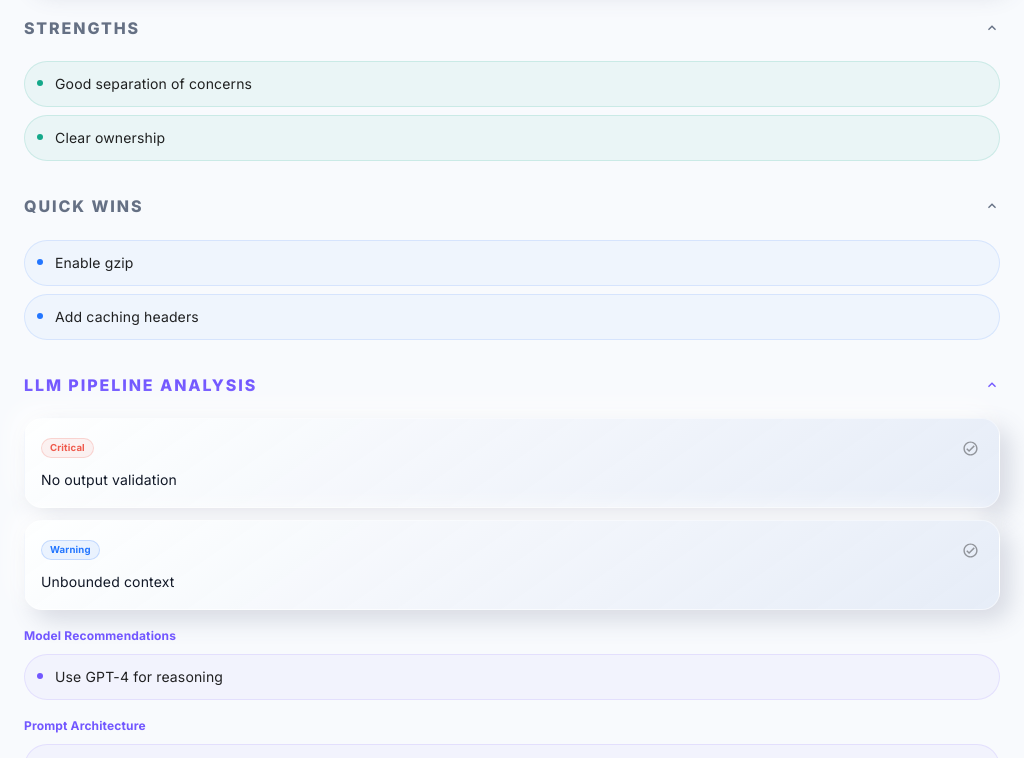
Test case: Collapsible sections — LLM section › LLM Pipeline Analysis section is collapsible
This screenshot has width=1024, height=758.
(page scrolled)
Click the button "LLM Pipeline Analysis".
click(141, 385)  # box [24, 375, 1000, 395]
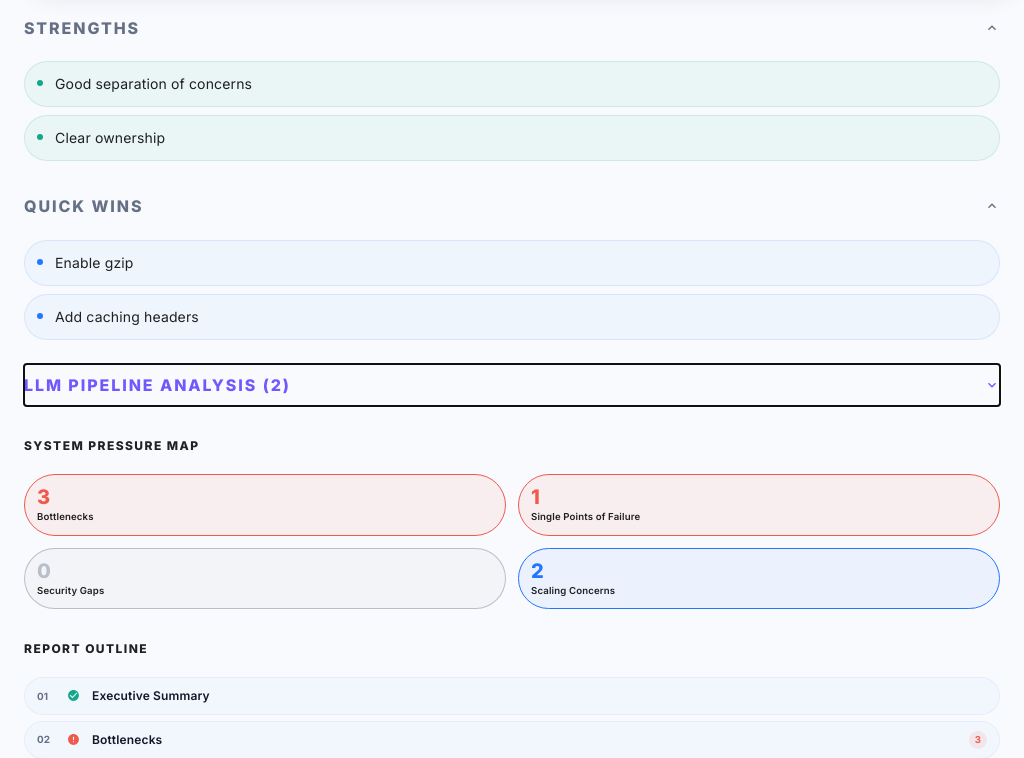
Check: the text "No output validation" is gone
